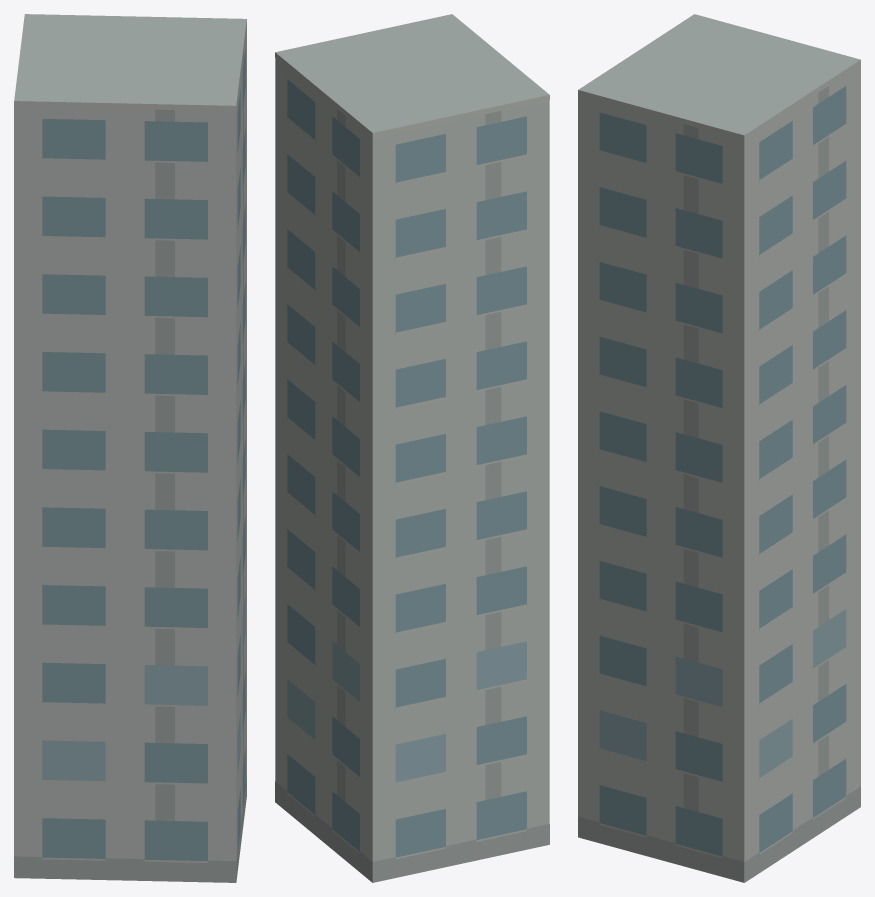
File: residential-5e581634-221a-42e7-86d1-3091688289ba.glb
3 renders of one model, left to right at view 1: azimuth 30°, elevation 25°; view 2: azimuth 150°, elevation 25°; view 3: azimuth 270°, elevation 25°, orthographic. The views are drawn at different scales.
Parts seen in each view (by area): view 1: residential-5e581634-221a-42e7-86d1-3091688289ba.tmp; view 2: residential-5e581634-221a-42e7-86d1-3091688289ba.tmp; view 3: residential-5e581634-221a-42e7-86d1-3091688289ba.tmp.
Boxes of the visible parts, bbox=[...] form: residential-5e581634-221a-42e7-86d1-3091688289ba.tmp: bbox=[14, 14, 246, 882]; residential-5e581634-221a-42e7-86d1-3091688289ba.tmp: bbox=[275, 14, 549, 882]; residential-5e581634-221a-42e7-86d1-3091688289ba.tmp: bbox=[578, 14, 860, 882].
Bounding box in the file's own units: 11.85 × 34 × 11.67.
